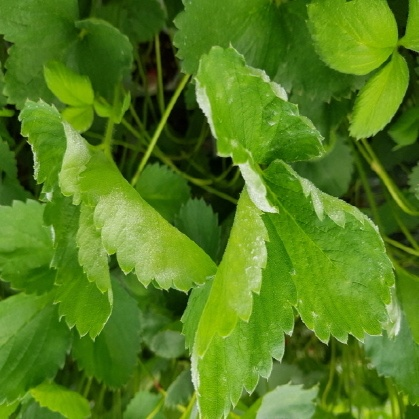Powdery_Leaf: (94, 148, 402, 322), (23, 74, 262, 262), (120, 0, 268, 235), (93, 169, 261, 376), (112, 122, 341, 272)
